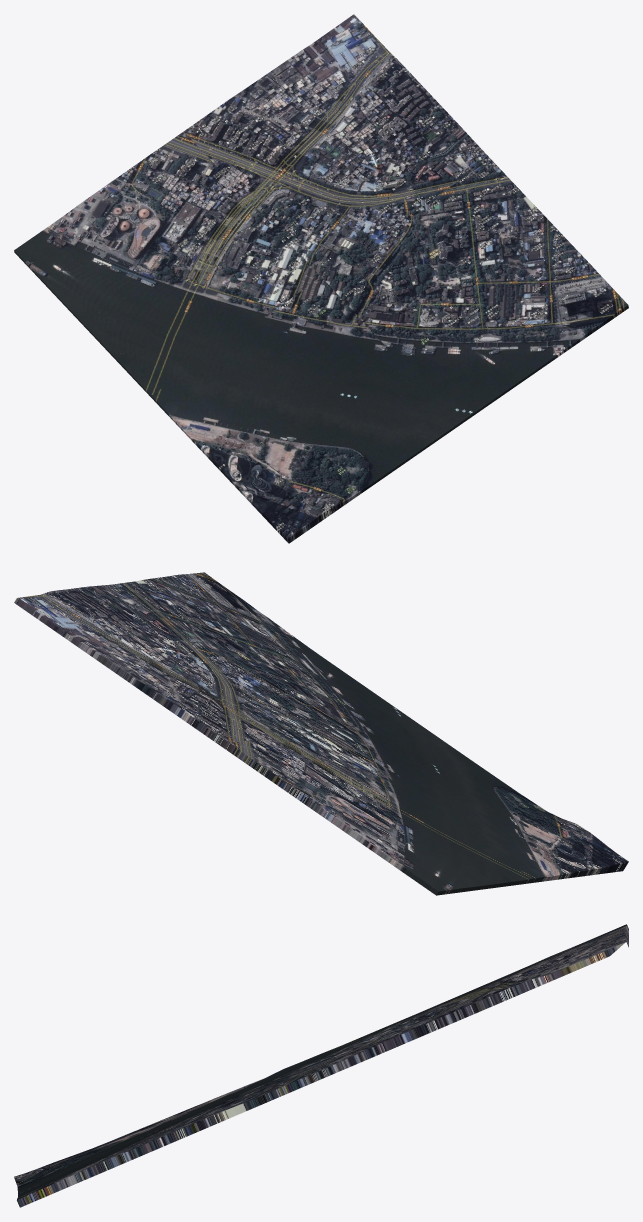
The picture shows the model from 3 angles, top to bottom: view 1: azimuth 30°, elevation 25°; view 2: azimuth 150°, elevation 25°; view 3: azimuth 270°, elevation 25°; orthographic projection. The views are drawn at different scales.
Visible parts, largest first — view 1: 1_7_3; view 2: 1_7_3; view 3: 1_7_3.
Boxes of the visible parts, box(x1,y1,x2,y2) form: 1_7_3: box(14, 14, 628, 543); 1_7_3: box(14, 572, 628, 895); 1_7_3: box(14, 924, 628, 1207).
Bounding box in the file's own units: 1226 × 893 × 1130.
Materials: 1 (1 with a texture image).
